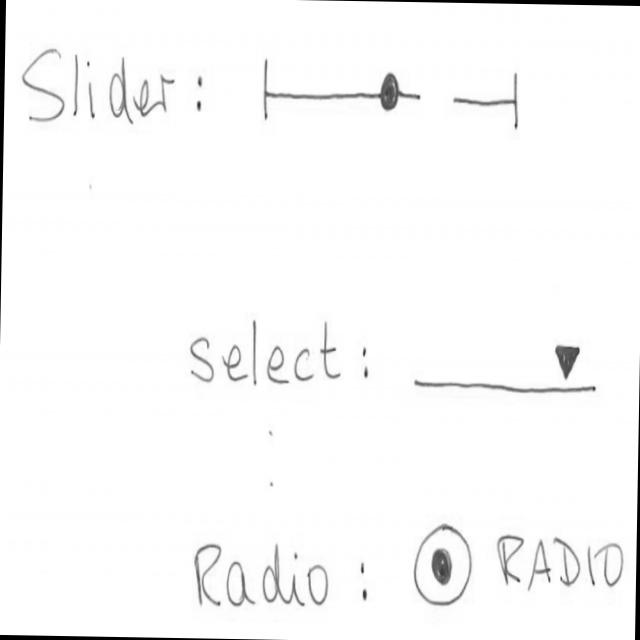radio: (409, 518, 627, 612)
select: (408, 321, 598, 399)
slider: (258, 50, 530, 135)
